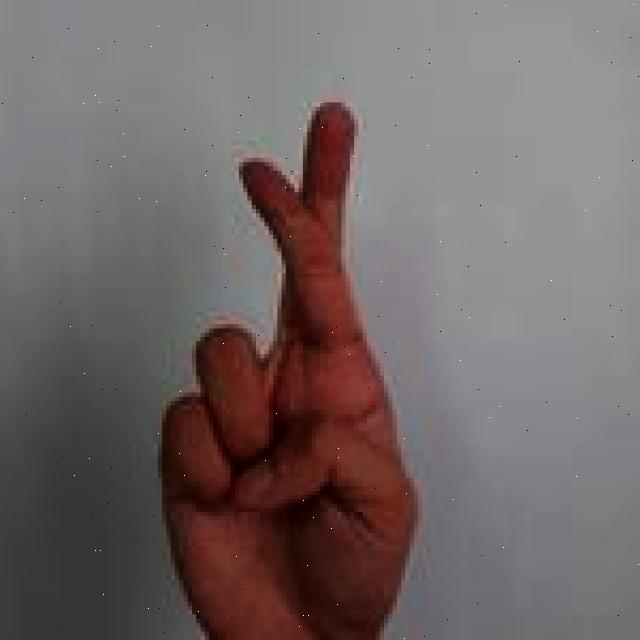R: (154, 99, 422, 640)
